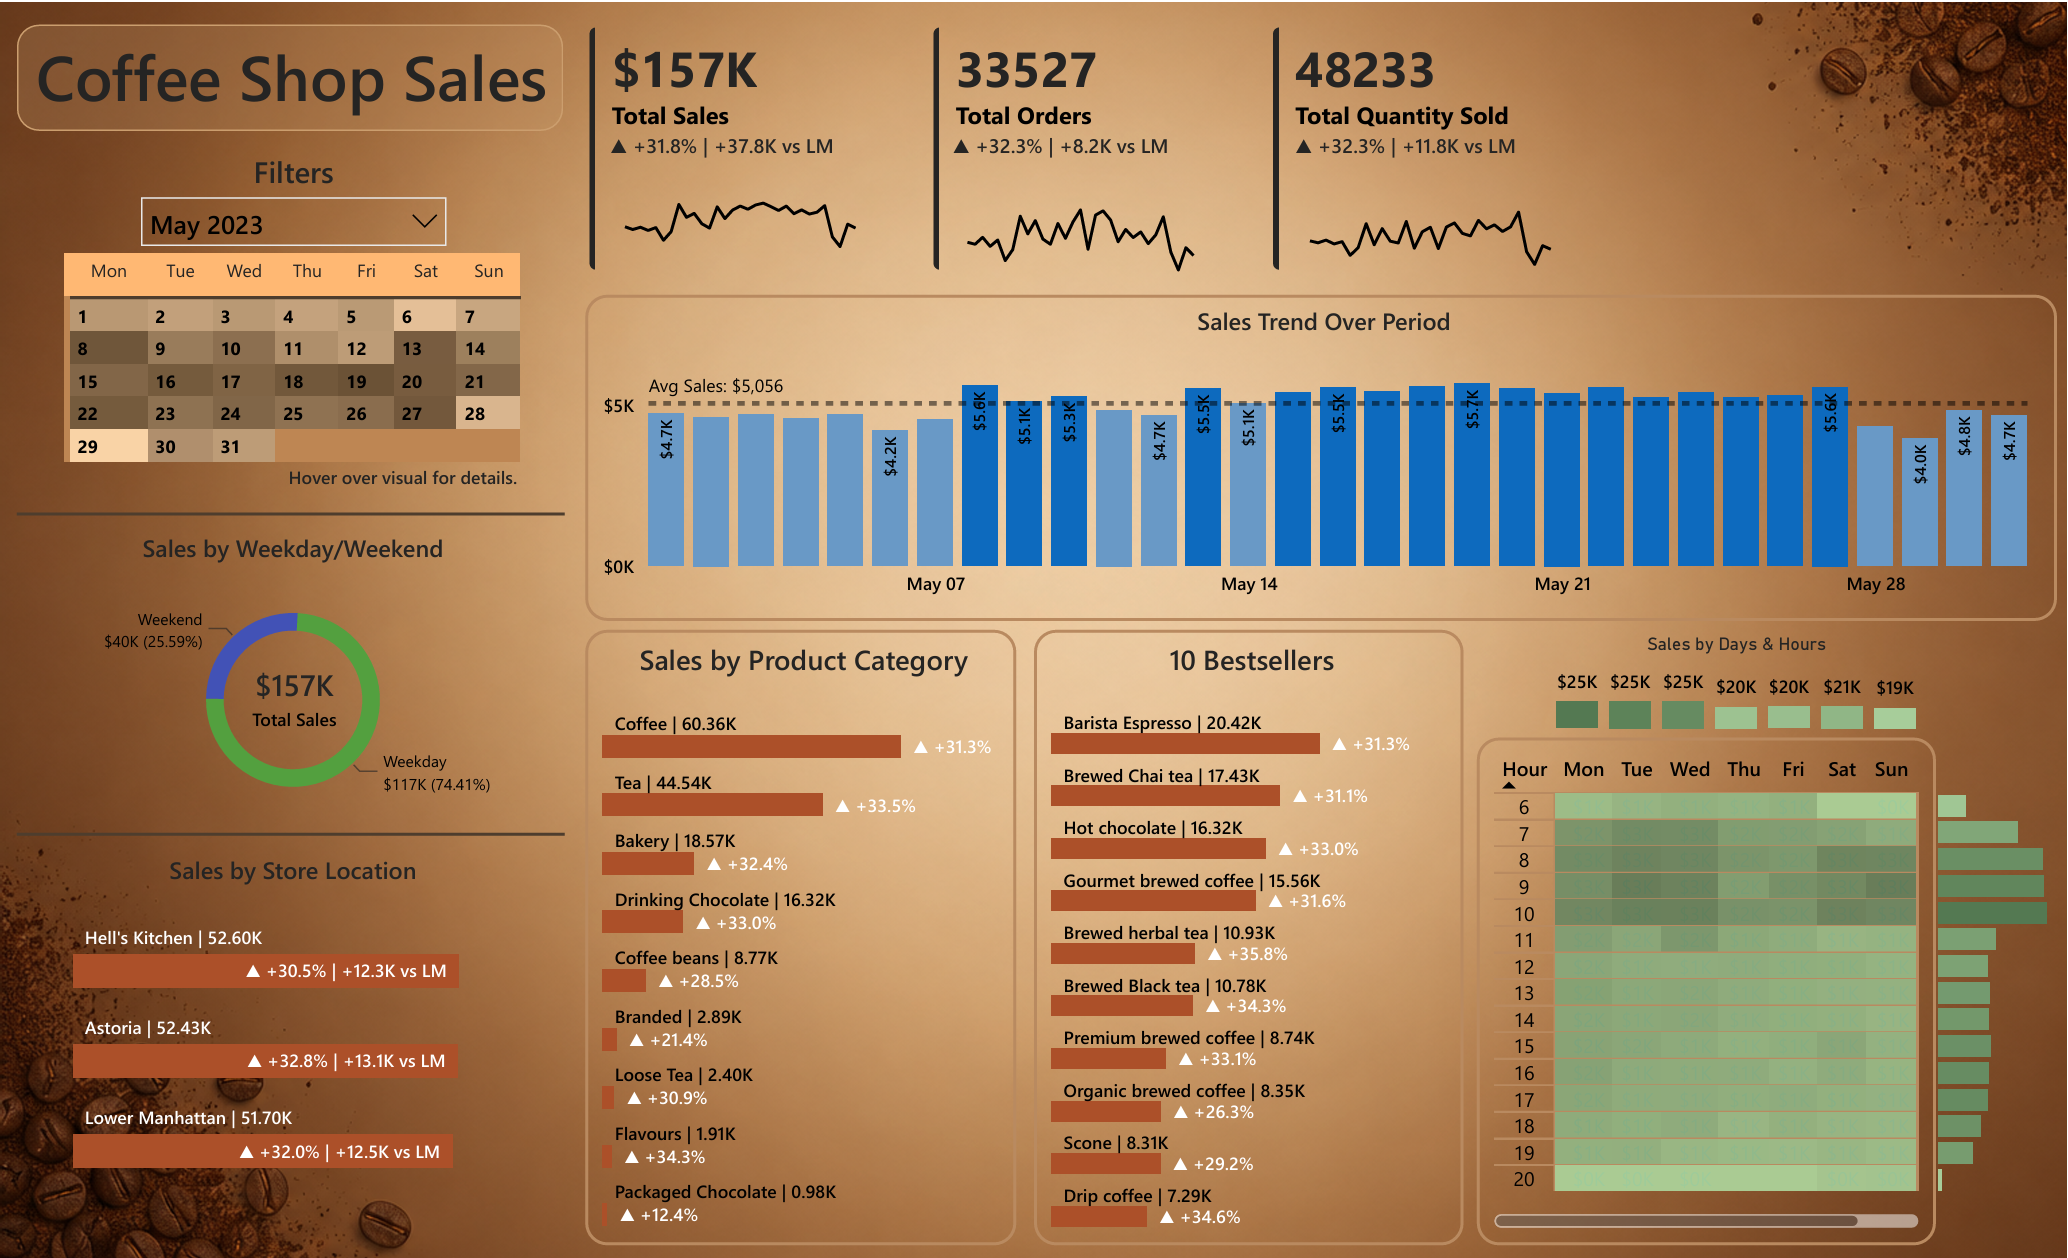

The dashboard page shown, as its layout file describes it:
{"tool":"powerbi","page":{"name":"Page 1","canvas":[1400,850],"ordinal":0},"visuals":[{"type":"textbox","title":"Coffee Shop Sales","box":[10.8,15,370,71.7],"z":0},{"type":"cardVisual","fields":{"Data":["Transactions.Total Sales"]},"box":[381.7,0,211.7,198.3],"z":1000,"group":"g1"},{"type":"cardVisual","fields":{"Data":["Transactions.Total Orders"]},"box":[615.4,0,207.7,198.5],"z":1000,"group":"g2"},{"type":"cardVisual","fields":{"Data":["Transactions.Total QTY Sold"]},"box":[845,0,220.2,198.5],"z":1000,"group":"g3"},{"type":"slicer","title":"Filters","fields":{"Values":["Date Table.Month Year"]},"box":[85,100,226.7,76.7],"z":1000},{"type":"group","id":"g1","title":"Group 1","box":[381.7,0,211.7,198.3],"z":2000},{"type":"group","id":"g2","title":"Group 1","box":[615.4,0,207.5,198.3],"z":3000},{"type":"lineChart","fields":{"Category":["Date Table.Date.Variation.Date Hierarchy.Year","Date Table.Date.Variation.Date Hierarchy.Quarter","Date Table.Date.Variation.Date Hierarchy.Month","Date Table.Date.Variation.Date Hierarchy.Day"],"Y":["Transactions.Total Sales"]},"box":[407.2,88.4,186.1,99.9],"z":3000,"group":"g1"},{"type":"lineChart","fields":{"Category":["Date Table.Date.Variation.Date Hierarchy.Year","Date Table.Date.Variation.Date Hierarchy.Quarter","Date Table.Date.Variation.Date Hierarchy.Month","Date Table.Date.Variation.Date Hierarchy.Day"],"Y":["Transactions.Total Orders"]},"box":[640.5,88.5,182.6,100],"z":3000,"group":"g2"},{"type":"lineChart","fields":{"Category":["Date Table.Date.Variation.Date Hierarchy.Year","Date Table.Date.Variation.Date Hierarchy.Quarter","Date Table.Date.Variation.Date Hierarchy.Month","Date Table.Date.Variation.Date Hierarchy.Day"],"Y":["Transactions.Total Quantity Sold"]},"box":[871.6,88.5,193.6,100],"z":3000,"group":"g3"},{"type":"group","id":"g3","title":"Group 1","box":[845,0,220,198.3],"z":4000},{"type":"pivotTable","fields":{"Rows":["Date Table.Week Number"],"Columns":["Date Table.Day Name"],"Values":["Min(Date Table.Day Number)"]},"box":[37.9,165,321.7,187.5],"z":5000},{"type":"cardVisual","fields":{"Data":["Transactions.Footnote"]},"box":[165.7,292.1,214.3,56.4],"z":6000},{"type":"shape","box":[11,309,371,75],"z":7000},{"type":"donutChart","title":"Sales by Weekday/Weekend","fields":{"Category":["Date Table.Weekday / Weekend"],"Y":["Transactions.Total Sales"]},"box":[44.3,358.6,308,195],"z":8000},{"type":"cardVisual","fields":{"Data":["Transactions.Total Sales"]},"box":[138.6,428.6,120,83.6],"z":9000},{"type":"shape","box":[10.8,525.8,370.8,75],"z":10000},{"type":"clusteredBarChart","title":"Sales by Store Location","fields":{"Category":["Transactions.store_location"],"Y":["Transactions.Placeholder","Transactions.Total Sales"]},"box":[44.2,576.7,307.9,221.4],"z":11000},{"type":"columnChart","title":"Sales Trend Over Period","fields":{"Category":["Transactions.transaction_date"],"Y":["Transactions.Total Sales"]},"box":[395.8,198.3,997.5,220.8],"z":12000},{"type":"clusteredBarChart","title":"Sales by Product Category","fields":{"Y":["Transactions.Placeholder","Transactions.Total Sales"],"Category":["Transactions.product_category"]},"box":[395.8,425,291.7,416.7],"z":13000},{"type":"clusteredBarChart","title":"10 Bestsellers","fields":{"Y":["Transactions.Placeholder","Transactions.Total Sales"],"Category":["Transactions.product_type"]},"box":[700,425,290.8,416.7],"z":14000},{"type":"pivotTable","fields":{"Rows":["Transactions.Hour"],"Columns":["Date Table.Day Name"],"Values":["Transactions.Total Sales"]},"box":[1000,498.3,310.8,343.3],"z":15000},{"type":"barChart","fields":{"Category":["Transactions.Hour"],"Y":["Transactions.Total Sales"]},"box":[1308.3,524.2,85,285.8],"z":16000},{"type":"columnChart","title":"Sales by Days & Hours","fields":{"Y":["Transactions.Total Sales"],"Category":["Date Table.Day Name"]},"box":[1049.2,428.3,253.3,70],"z":17000}]}

Visuals, with their boxes in screenshot pixels (x1, y1, x2, y2), scaled from the page's 1400x850 canvas onto the 2068x1258 screenshot:
"Coffee Shop Sales" textbox: <region>16, 22, 562, 128</region>
cardVisual - Transactions.Total Sales: <region>564, 0, 877, 293</region>
cardVisual - Transactions.Total Orders: <region>909, 0, 1216, 294</region>
cardVisual - Transactions.Total QTY Sold: <region>1248, 0, 1573, 294</region>
"Filters" slicer: <region>126, 148, 460, 262</region>
"Group 1" group: <region>564, 0, 877, 293</region>
"Group 1" group: <region>909, 0, 1216, 293</region>
lineChart - Date Table.Date.Variation.Date Hierarchy.Year x Date Table.Date.Variation.Date Hierarchy.Quarter: <region>601, 131, 876, 279</region>
lineChart - Date Table.Date.Variation.Date Hierarchy.Year x Date Table.Date.Variation.Date Hierarchy.Quarter: <region>946, 131, 1216, 279</region>
lineChart - Date Table.Date.Variation.Date Hierarchy.Year x Date Table.Date.Variation.Date Hierarchy.Quarter: <region>1287, 131, 1573, 279</region>
"Group 1" group: <region>1248, 0, 1573, 293</region>
pivotTable - Date Table.Week Number x Date Table.Day Name: <region>56, 244, 531, 522</region>
cardVisual - Transactions.Footnote: <region>245, 432, 561, 516</region>
shape: <region>16, 457, 564, 568</region>
"Sales by Weekday/Weekend" donutChart: <region>65, 531, 520, 819</region>
cardVisual - Transactions.Total Sales: <region>205, 634, 382, 758</region>
shape: <region>16, 778, 564, 889</region>
"Sales by Store Location" clusteredBarChart: <region>65, 854, 520, 1181</region>
"Sales Trend Over Period" columnChart: <region>585, 293, 2058, 620</region>
"Sales by Product Category" clusteredBarChart: <region>585, 629, 1016, 1246</region>
"10 Bestsellers" clusteredBarChart: <region>1034, 629, 1464, 1246</region>
pivotTable - Transactions.Hour x Date Table.Day Name: <region>1477, 737, 1936, 1246</region>
barChart - Transactions.Hour x Transactions.Total Sales: <region>1933, 776, 2058, 1199</region>
"Sales by Days & Hours" columnChart: <region>1550, 634, 1924, 737</region>
